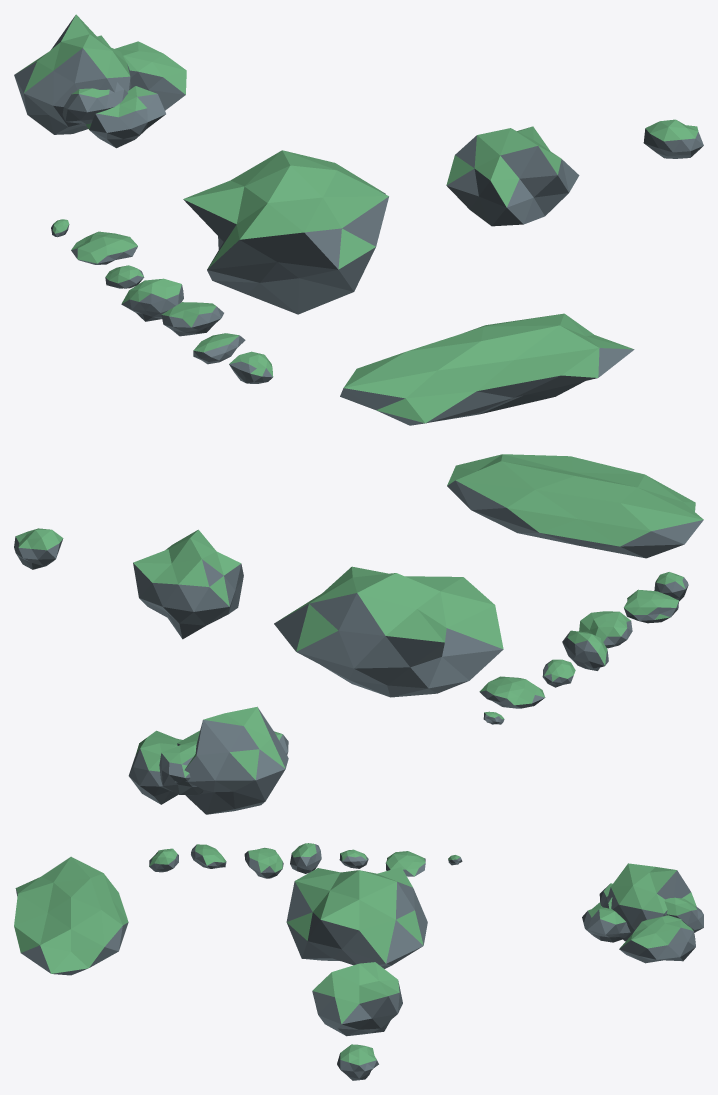
The model's file is faceted_rocks_kit.glb.
3 views of the same model, one above another, from view 1: azimuth 30°, elevation 25°; view 2: azimuth 150°, elevation 25°; view 3: azimuth 270°, elevation 25° (orthographic). The views are drawn at different scales.
Visible parts, largest first — view 1: Rock_Angular_Large, Shelf_Cavern_Ledge, Rock_Angular_Medium, Cluster_Cavern_Boulder_2, Cluster_Cavern_Boulder_4, Cluster_Cavern_Boulder_0, Transition_Border_Pebble_3, Rock_Angular_Small, Transition_Border_Pebble_5, Cluster_Cavern_Boulder_3, Transition_Border_Pebble_2, Transition_Border_Pebble_0 (+2 smaller); view 2: Rock_Angular_Large, Shelf_Cavern_Ledge, Cluster_Cavern_Boulder_2, Rock_Angular_Medium, Cluster_Cavern_Boulder_0, Transition_Border_Pebble_5, Rock_Angular_Small, Cluster_Cavern_Boulder_1, Transition_Border_Pebble_1, Transition_Border_Pebble_2, Transition_Border_Pebble_3, Transition_Border_Pebble_4 (+1 smaller); view 3: Rock_Angular_Large, Shelf_Cavern_Ledge, Rock_Angular_Medium, Cluster_Cavern_Boulder_2, Cluster_Cavern_Boulder_0, Cluster_Cavern_Boulder_4, Rock_Angular_Small, Transition_Border_Pebble_2, Cluster_Cavern_Boulder_1, Transition_Border_Pebble_3, Transition_Border_Pebble_5, Transition_Border_Pebble_1 (+2 smaller).
Boxes of the visible parts, bbox=[...] form: Rock_Angular_Large: bbox=[183, 150, 388, 314]; Shelf_Cavern_Ledge: bbox=[340, 313, 634, 425]; Rock_Angular_Medium: bbox=[446, 126, 579, 226]; Cluster_Cavern_Boulder_2: bbox=[14, 14, 131, 134]; Cluster_Cavern_Boulder_4: bbox=[86, 86, 165, 148]; Cluster_Cavern_Boulder_0: bbox=[115, 41, 186, 110]; Transition_Border_Pebble_3: bbox=[121, 278, 183, 321]; Rock_Angular_Small: bbox=[643, 119, 703, 158]; Transition_Border_Pebble_5: bbox=[71, 231, 137, 264]; Cluster_Cavern_Boulder_3: bbox=[62, 82, 127, 124]; Transition_Border_Pebble_2: bbox=[161, 302, 223, 336]; Transition_Border_Pebble_0: bbox=[229, 351, 273, 383]; Rock_Angular_Large: bbox=[274, 566, 503, 697]; Shelf_Cavern_Ledge: bbox=[447, 454, 703, 558]; Cluster_Cavern_Boulder_2: bbox=[174, 706, 288, 814]; Rock_Angular_Medium: bbox=[133, 529, 243, 639]; Cluster_Cavern_Boulder_0: bbox=[128, 730, 182, 804]; Transition_Border_Pebble_5: bbox=[479, 676, 545, 708]; Rock_Angular_Small: bbox=[14, 528, 63, 569]; Cluster_Cavern_Boulder_1: bbox=[159, 741, 203, 794]; Transition_Border_Pebble_1: bbox=[624, 589, 678, 623]; Transition_Border_Pebble_2: bbox=[579, 611, 632, 648]; Transition_Border_Pebble_3: bbox=[562, 630, 608, 670]; Transition_Border_Pebble_4: bbox=[542, 659, 575, 687]; Rock_Angular_Large: bbox=[286, 867, 427, 968]; Shelf_Cavern_Ledge: bbox=[14, 856, 128, 975]; Rock_Angular_Medium: bbox=[312, 962, 402, 1036]; Cluster_Cavern_Boulder_2: bbox=[607, 863, 696, 941]; Cluster_Cavern_Boulder_0: bbox=[619, 915, 695, 963]; Cluster_Cavern_Boulder_4: bbox=[582, 902, 630, 942]; Rock_Angular_Small: bbox=[337, 1044, 378, 1080]; Transition_Border_Pebble_2: bbox=[244, 847, 283, 878]; Cluster_Cavern_Boulder_1: bbox=[664, 897, 703, 932]; Transition_Border_Pebble_3: bbox=[290, 843, 321, 873]; Transition_Border_Pebble_5: bbox=[385, 851, 425, 876]; Transition_Border_Pebble_1: bbox=[191, 844, 226, 868].
Bounding box in the file's own units: 10.99 × 2.22 × 14.37.
